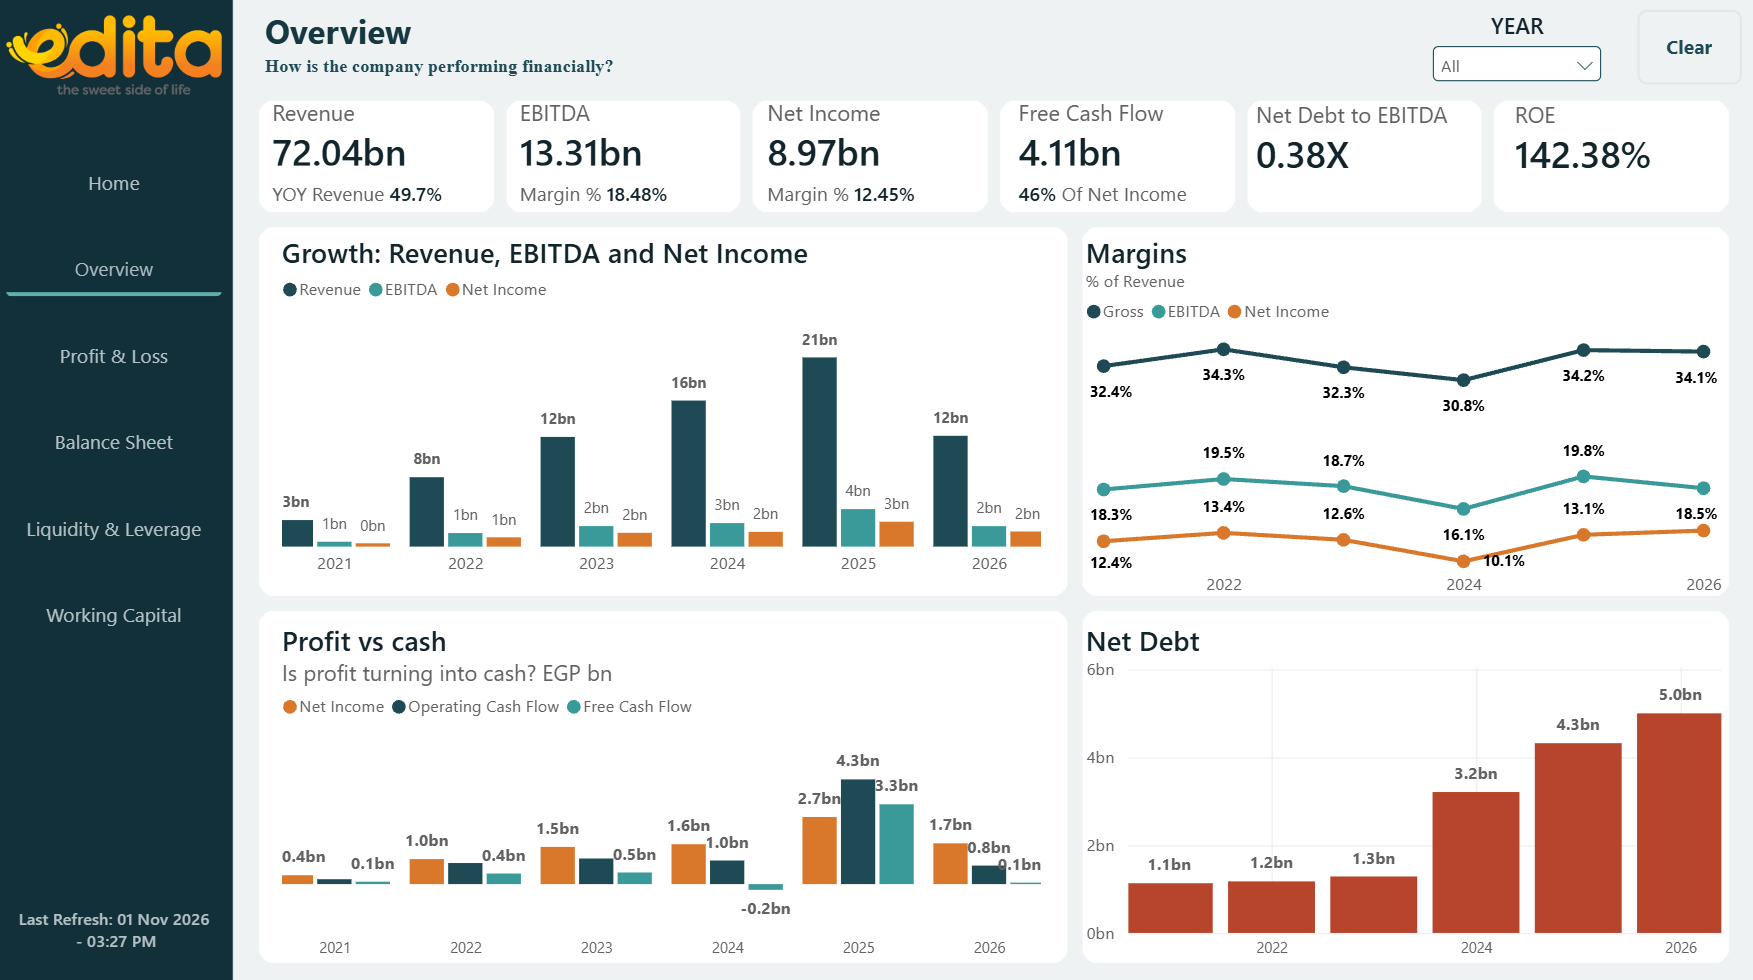

The dashboard page shown, as its layout file describes it:
{"tool":"powerbi","page":{"name":"Overview","canvas":[1280,720],"ordinal":1},"visuals":[{"type":"textbox","box":[196.4,8.6,138.8,33.8],"z":0},{"type":"textbox","box":[196.4,42.3,275.8,23.2],"z":1000},{"type":"pageNavigator","box":[0,108,173.3,374.6],"z":2000},{"type":"card","fields":{"Values":["Measure_List.Last Refresh Display"]},"box":[0,640.6,173.3,79.3],"z":3000},{"type":"cardVisual","fields":{"Data":["Measure_List.Revenue"]},"box":[193.3,74.7,156.7,108.4],"z":4000},{"type":"cardVisual","fields":{"Data":["Measure_List.EBITDA"]},"box":[373.5,74.7,180.1,108.4],"z":5000},{"type":"cardVisual","fields":{"Data":["Measure_List.Net Income"]},"box":[553.6,74.7,180.1,108.4],"z":6000},{"type":"cardVisual","fields":{"Data":["Measure_List.ROE"]},"box":[1096.9,71.8,147.9,73.2],"z":7000},{"type":"cardVisual","fields":{"Data":["Measure_List.Net Debt to EBITDA"]},"box":[909.5,71.8,159.6,73.2],"z":8000},{"type":"cardVisual","fields":{"Data":["Measure_List.Free Cash Flow"]},"box":[736.7,74.7,180.1,108.4],"z":9000},{"type":"clusteredColumnChart","title":"Growth: Revenue, EBITDA and Net Income","fields":{"Category":["Dim_Calendar.Year"],"Y":["Measure_List.Revenue","Measure_List.EBITDA","Measure_List.Net Income"]},"box":[192.9,158.6,584.3,282.9],"z":10000},{"type":"lineChart","title":"Margins","fields":{"Category":["Dim_Calendar.Year"],"Y":["Measure_List.Gross Margin %","Measure_List.EBITDA Margin %","Measure_List.Net Income Margin %"]},"box":[777.1,158.6,494.3,298.6],"z":11000},{"type":"clusteredColumnChart","title":"Profit vs cash","fields":{"Category":["Dim_Calendar.Year"],"Y":["Measure_List.Net Income","Measure_List.Operating Cash Flow","Measure_List.Free Cash Flow"]},"box":[192.9,440,584.3,280],"z":12000},{"type":"clusteredColumnChart","title":"Net Debt","fields":{"Category":["Dim_Calendar.Year"],"Y":["Measure_List.Net Debt"]},"box":[777.1,440,494.3,280],"z":13000},{"type":"slicer","title":"YEAR","fields":{"Values":["Dim_Calendar.Year"]},"box":[1041.2,9.7,132.5,53.8],"z":14000},{"type":"actionButton","box":[1194.4,9.7,76,54.3],"z":15000},{"type":"image","box":[8.6,11,157.1,63.8],"z":16000}]}

Visuals, with their boxes on the page's 1280x720 design canvas (x1, y1, x2, y2). These are canvas units, not pixel positions in the 1753x980 screenshot, which may show the page scaled, cropped or inside an application window:
textbox: (196,9,335,42)
textbox: (196,42,472,66)
pageNavigator: (0,108,173,483)
card - Measure_List.Last Refresh Display: (0,641,173,720)
cardVisual - Measure_List.Revenue: (193,75,350,183)
cardVisual - Measure_List.EBITDA: (374,75,554,183)
cardVisual - Measure_List.Net Income: (554,75,734,183)
cardVisual - Measure_List.ROE: (1097,72,1245,145)
cardVisual - Measure_List.Net Debt to EBITDA: (910,72,1069,145)
cardVisual - Measure_List.Free Cash Flow: (737,75,917,183)
"Growth: Revenue, EBITDA and Net Income" clusteredColumnChart: (193,159,777,442)
"Margins" lineChart: (777,159,1271,457)
"Profit vs cash" clusteredColumnChart: (193,440,777,720)
"Net Debt" clusteredColumnChart: (777,440,1271,720)
"YEAR" slicer: (1041,10,1174,64)
actionButton: (1194,10,1270,64)
image: (9,11,166,75)
